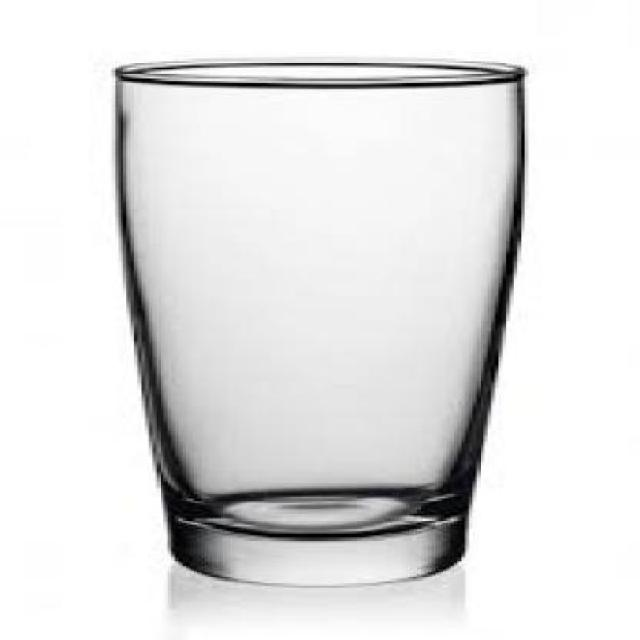kaca: (112, 58, 522, 591)
